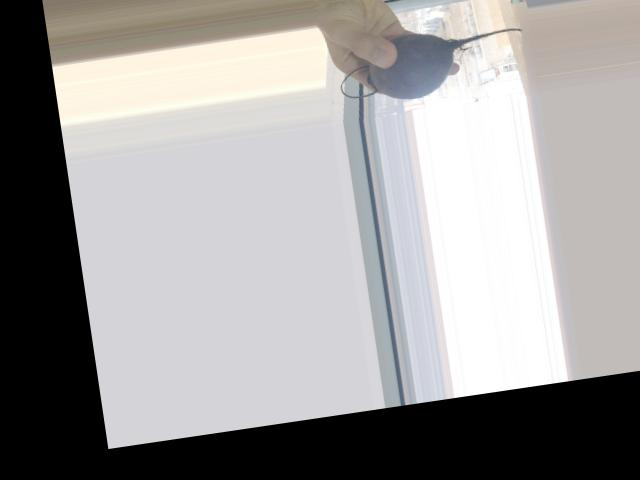beet: (335, 17, 530, 108)
